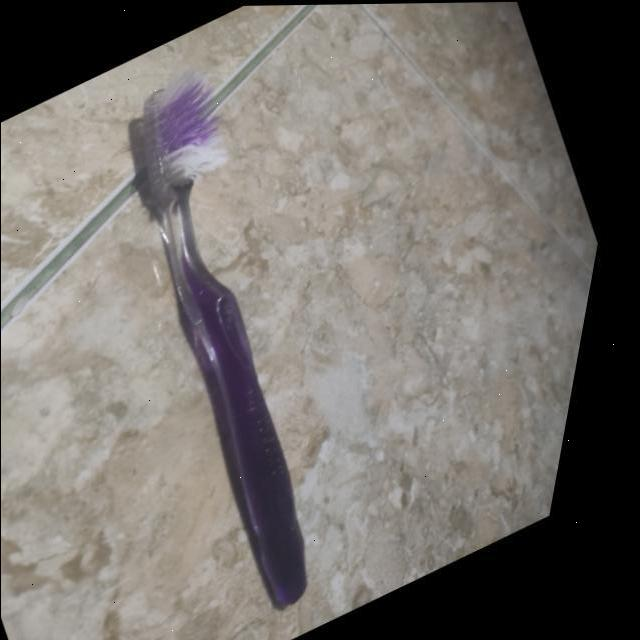toothbrush: (27, 63, 469, 632)
